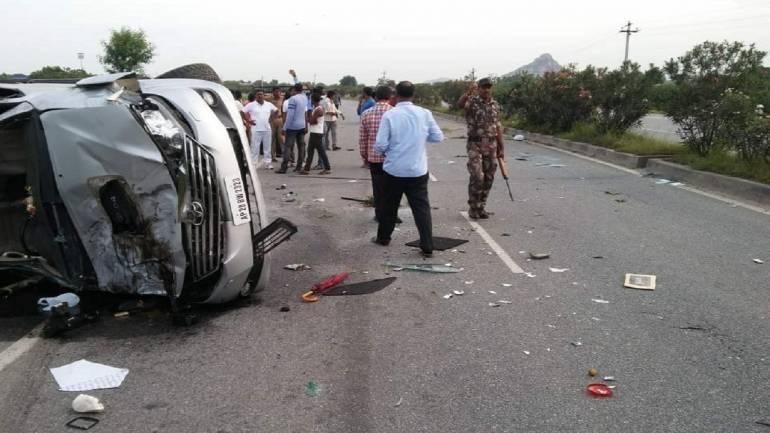accident: (1, 61, 354, 375)
